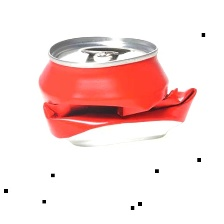can: (32, 27, 209, 153)
